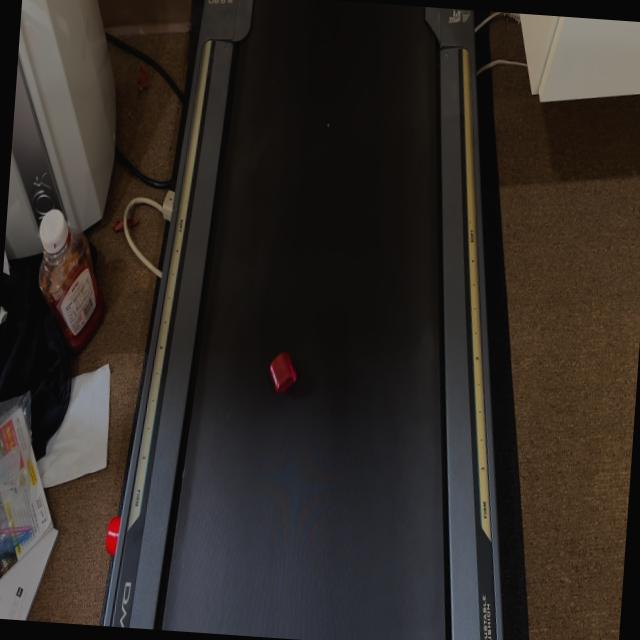Recycle: (266, 352, 298, 398)
